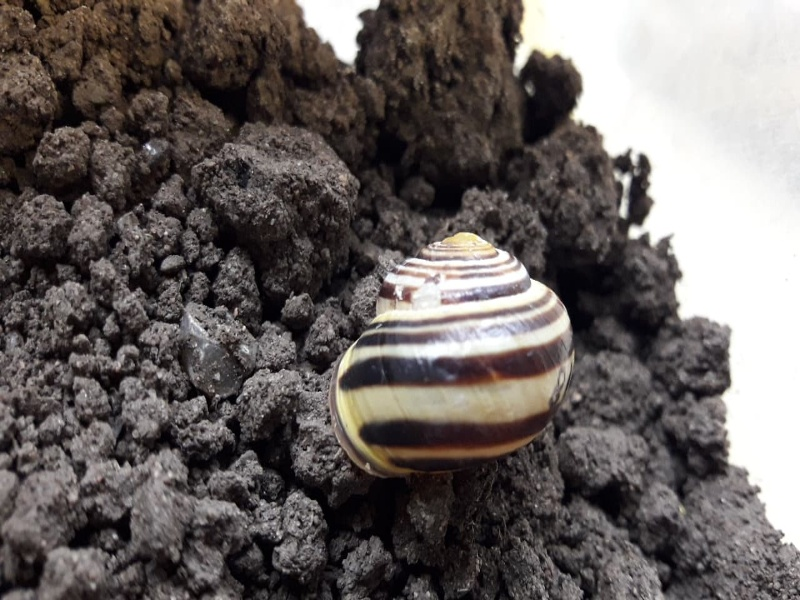snail_Y_B: (324, 222, 593, 505)
